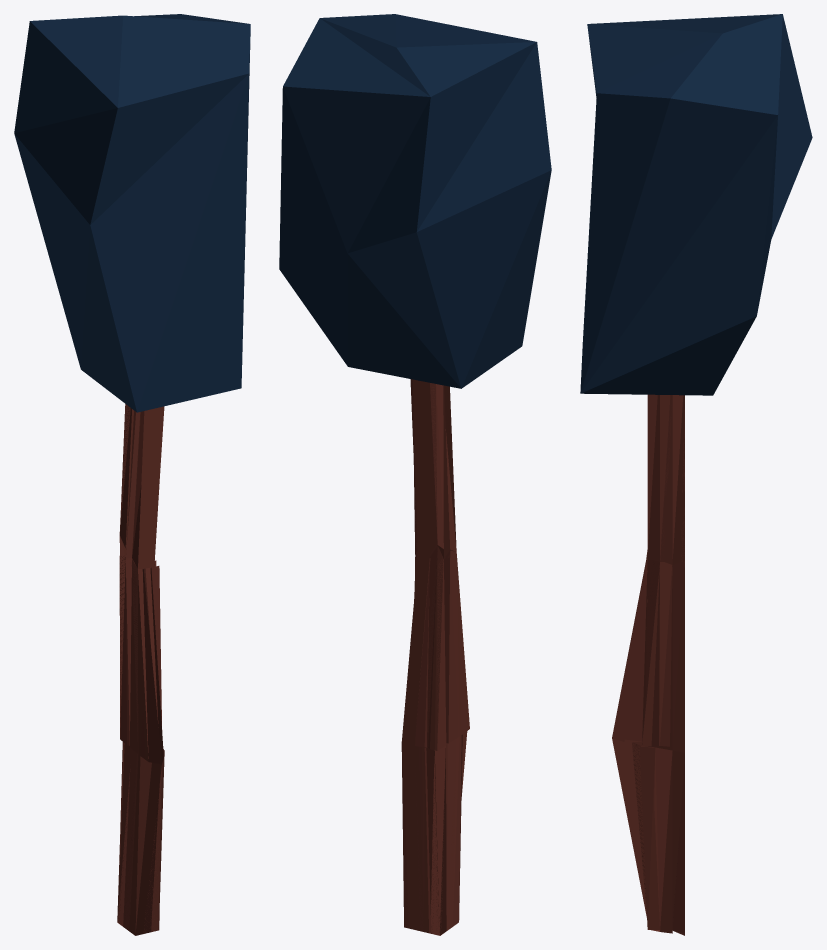
The model's file is island2_tree5.obj.
The picture shows the model from 3 angles, left to right: view 1: azimuth 30°, elevation 25°; view 2: azimuth 150°, elevation 25°; view 3: azimuth 270°, elevation 25°; orthographic projection.
Parts seen in each view (by area): view 1: Cube.011_Cube.016, Cube.000_Cube.015; view 2: Cube.011_Cube.016, Cube.000_Cube.015; view 3: Cube.011_Cube.016, Cube.000_Cube.015.
Boxes of the visible parts, x1,y1,x2,y2 form: Cube.011_Cube.016: (14,14,250,412); Cube.000_Cube.015: (117,404,164,935); Cube.011_Cube.016: (279,14,551,388); Cube.000_Cube.015: (401,379,469,935); Cube.011_Cube.016: (580,14,812,395); Cube.000_Cube.015: (612,394,684,935).
Size of the model in its own units: 3.21 by 13.96 by 3.28.
